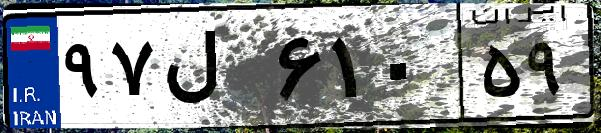0: (385, 28, 445, 110)
1: (330, 28, 385, 110)
5: (475, 38, 525, 113)
6: (270, 28, 330, 110)
7: (110, 28, 158, 98)
9: (57, 26, 110, 100), (525, 38, 570, 115)
ل: (158, 20, 270, 120)
